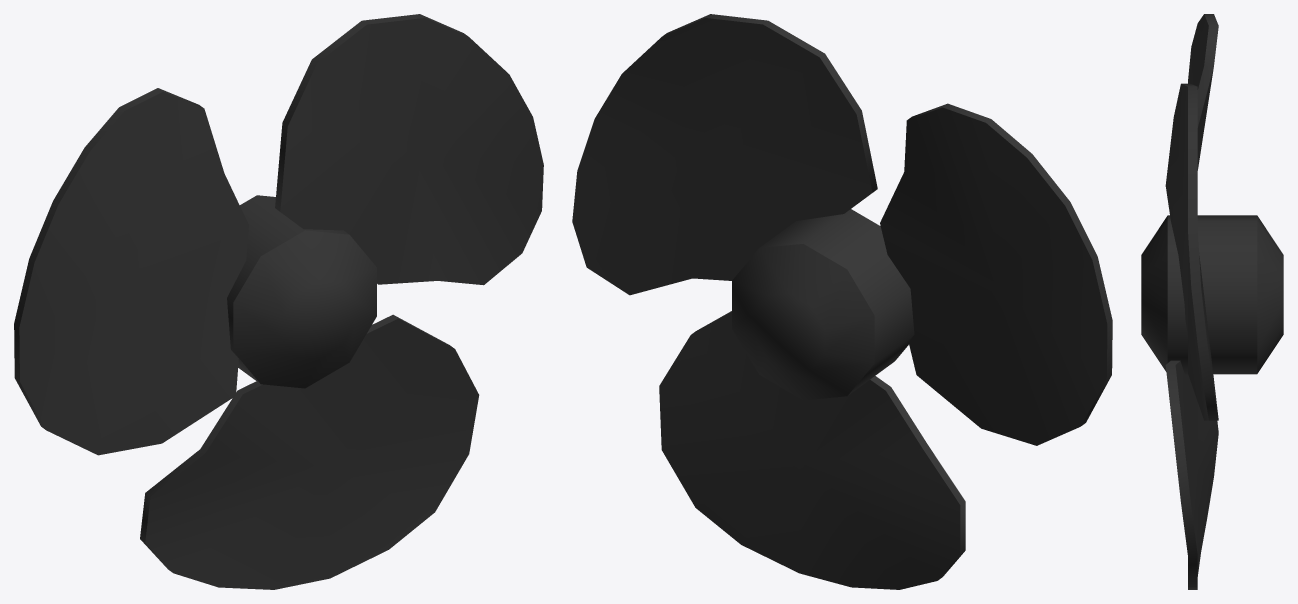
Rendered from Fan Blades.fbx.
The picture shows the model from 3 angles, left to right: view 1: azimuth 30°, elevation 25°; view 2: azimuth 150°, elevation 25°; view 3: azimuth 270°, elevation 25°; orthographic projection. The views are drawn at different scales.
Visible parts, largest first — view 1: Fan_Blades; view 2: Fan_Blades; view 3: Fan_Blades.
Part boxes in pixels (box(x1,y1,x2,y2)): Fan_Blades: box(14, 14, 543, 589); Fan_Blades: box(572, 14, 1112, 589); Fan_Blades: box(1141, 14, 1283, 589).
Size of the model in its own units: 2.99 by 2.93 by 0.7463.
